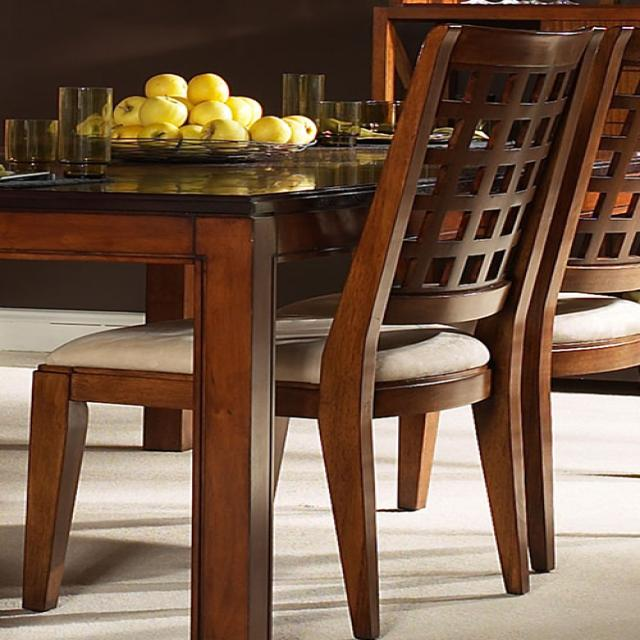chair: (21, 20, 631, 640)
